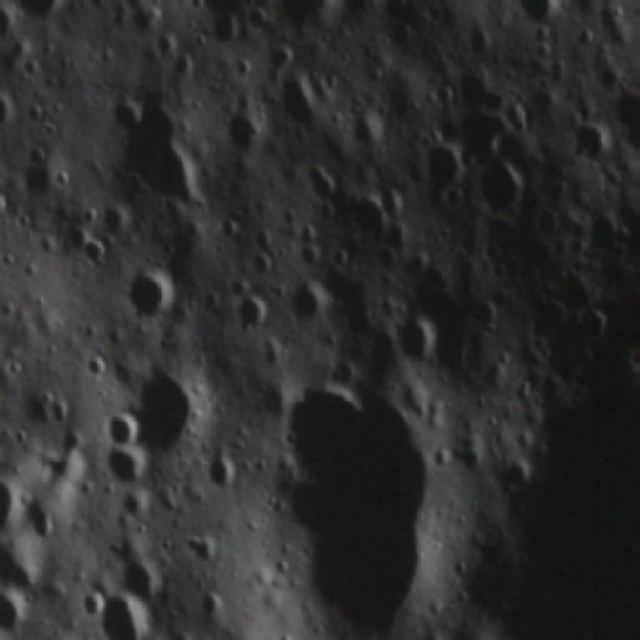crater: (286, 360, 459, 628), (142, 373, 203, 459), (92, 591, 172, 640), (478, 151, 531, 224), (270, 0, 347, 40), (130, 267, 179, 322), (397, 306, 443, 357), (425, 145, 464, 200), (105, 401, 143, 450), (4, 0, 70, 28), (297, 278, 337, 318), (238, 291, 280, 326), (521, 0, 573, 28), (114, 92, 144, 134), (101, 196, 132, 235), (620, 335, 640, 387), (81, 235, 108, 262), (37, 502, 55, 538)
